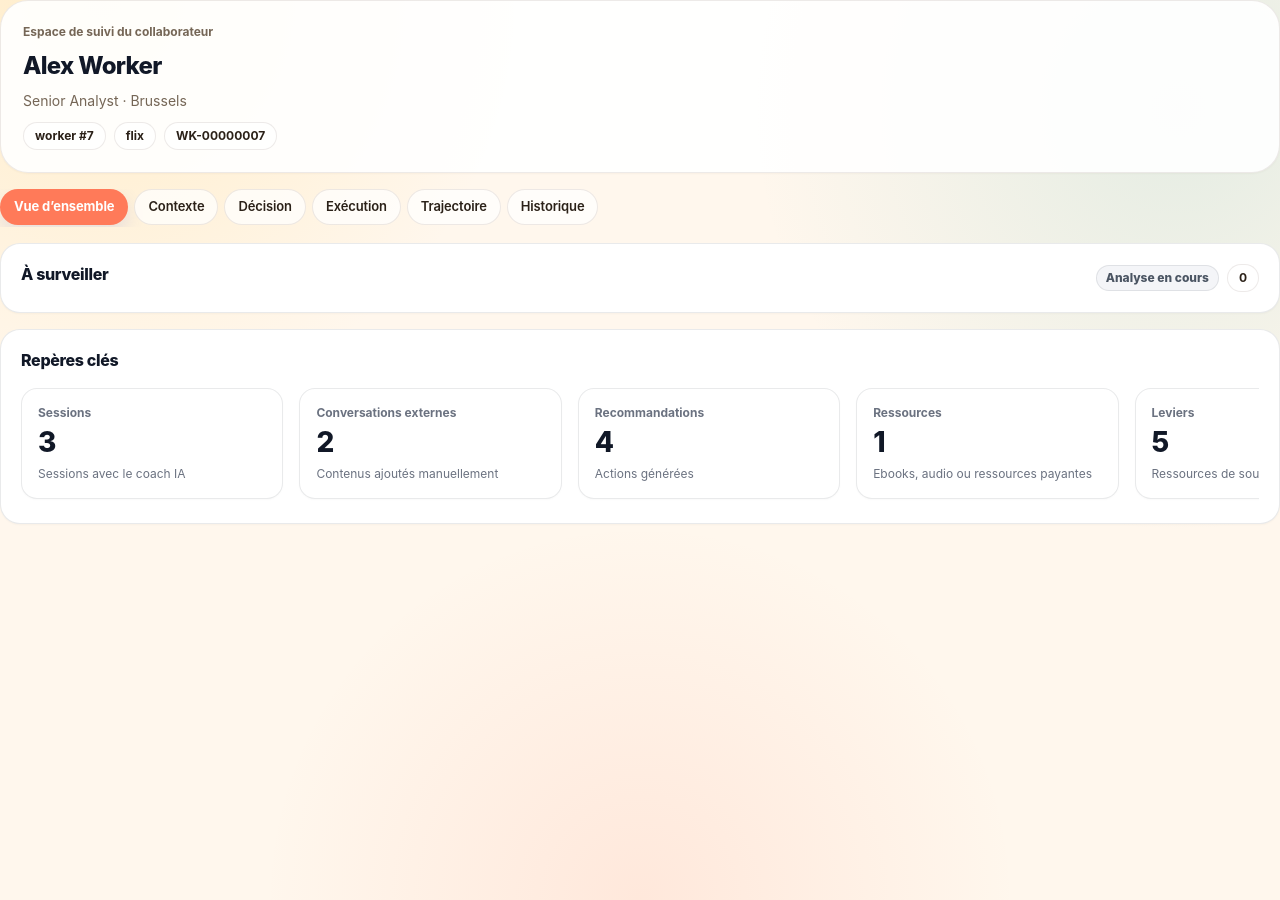
it: Organization Insights internationalization › localizes Professional Intention clarification in French
Click the tab "Contexte" at (176, 207), box top-left (134, 189), bottom-right (218, 225)
(page scrolled)
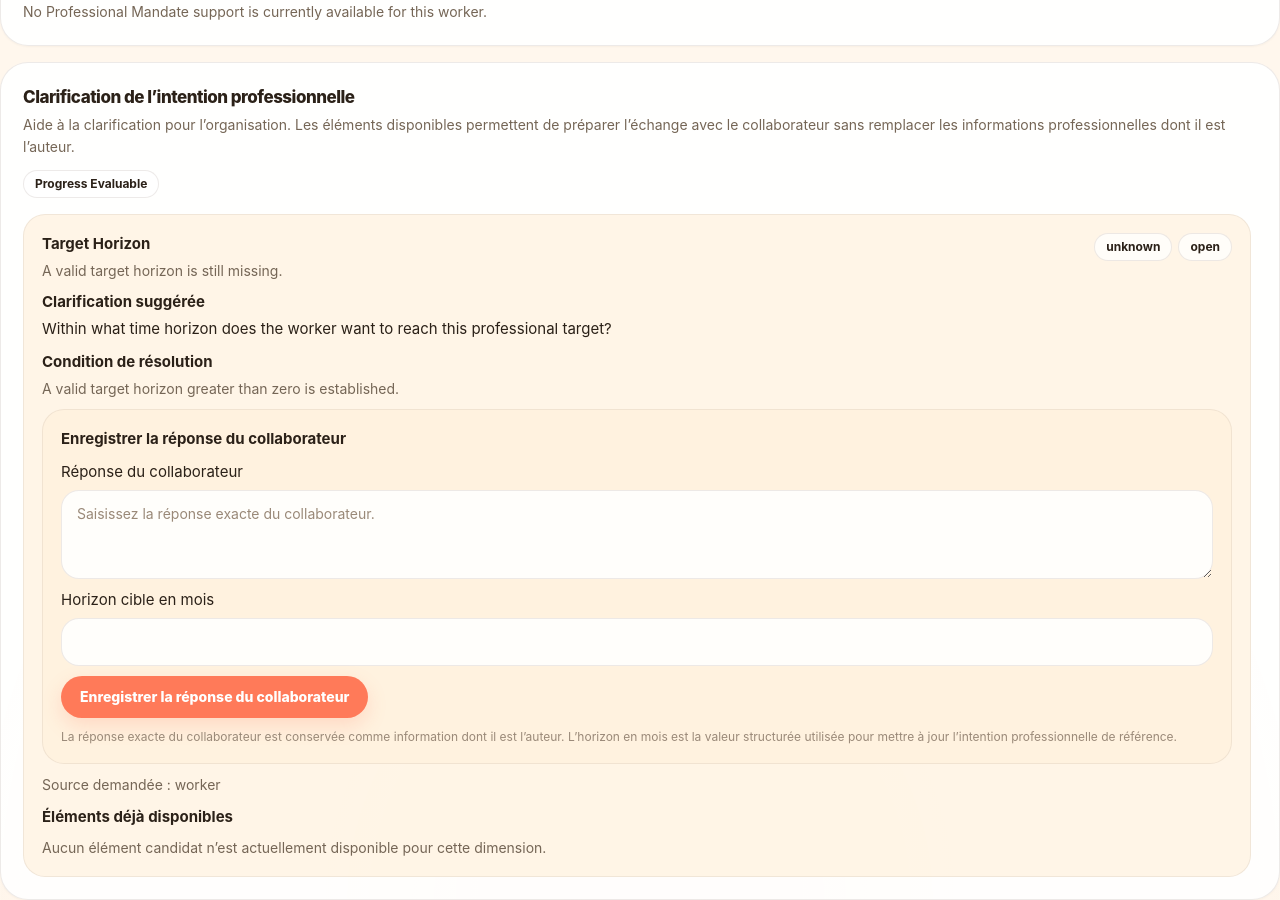
Check: the text "Clarification de l’intention professionnelle" is shown, box top-left (23, 87), bottom-right (354, 107)
Check: the text "Clarification suggérée" is shown, box top-left (42, 292), bottom-right (205, 311)
Check: the text "Condition de résolution" is shown, box top-left (42, 352), bottom-right (212, 371)
